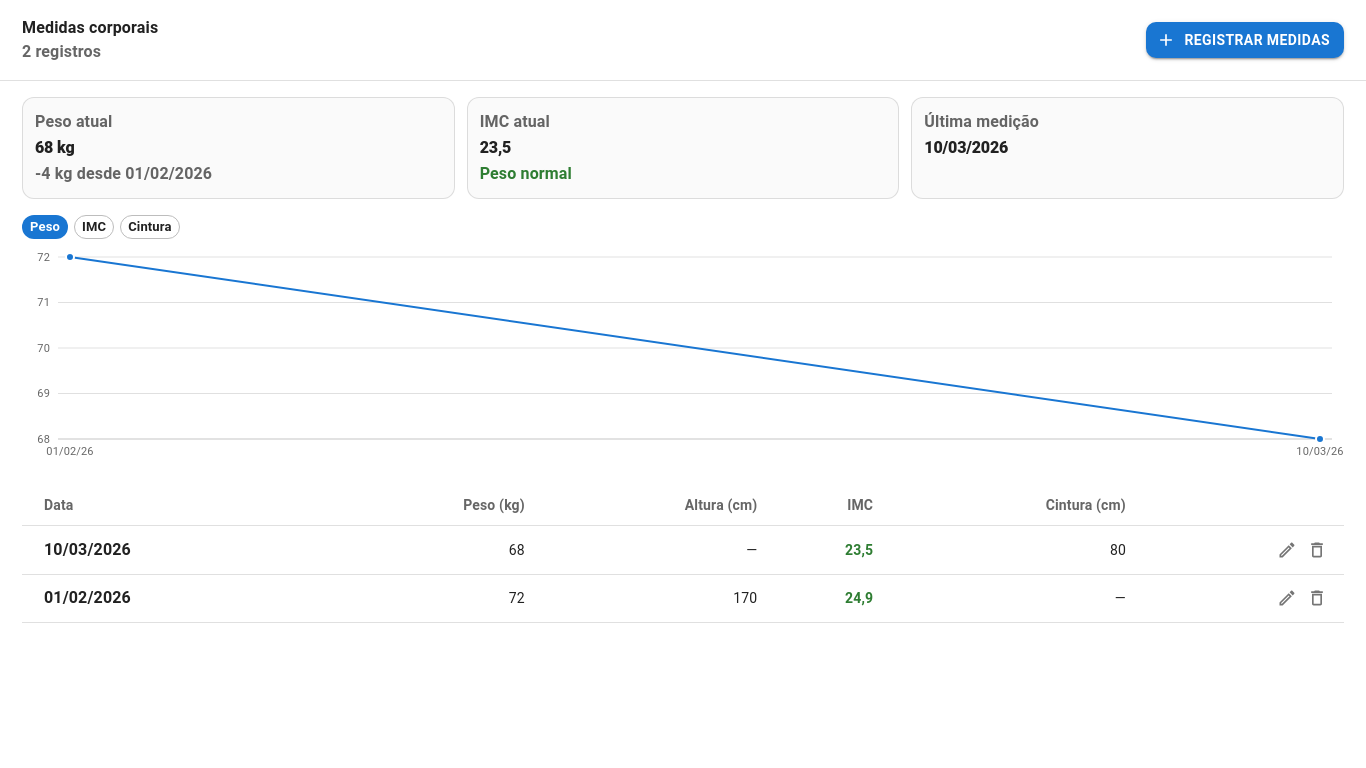
Test: PatientMeasurementsCard › resume peso, IMC e histórico a partir das medições
This screenshot has width=1366, height=768.
Expected: the text "2 registros" is shown, [22,42,101,61]
Expected: the text "Peso atual" is shown, [35,112,112,131]
Step 1. Click the button "Cintura" → click(150, 227), box [120,215,180,239]
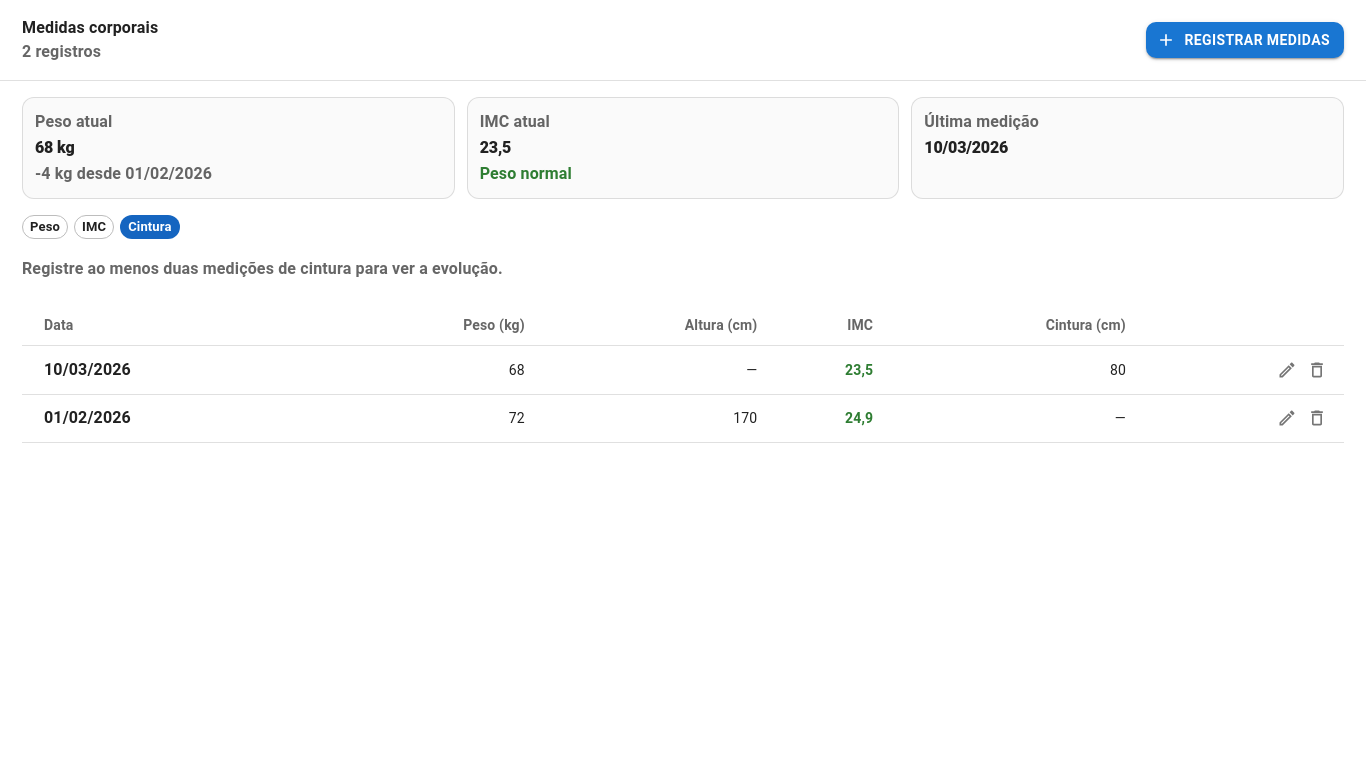
Result: the text "Registre ao menos duas medições de cintura" is shown at [22,259,503,278]
